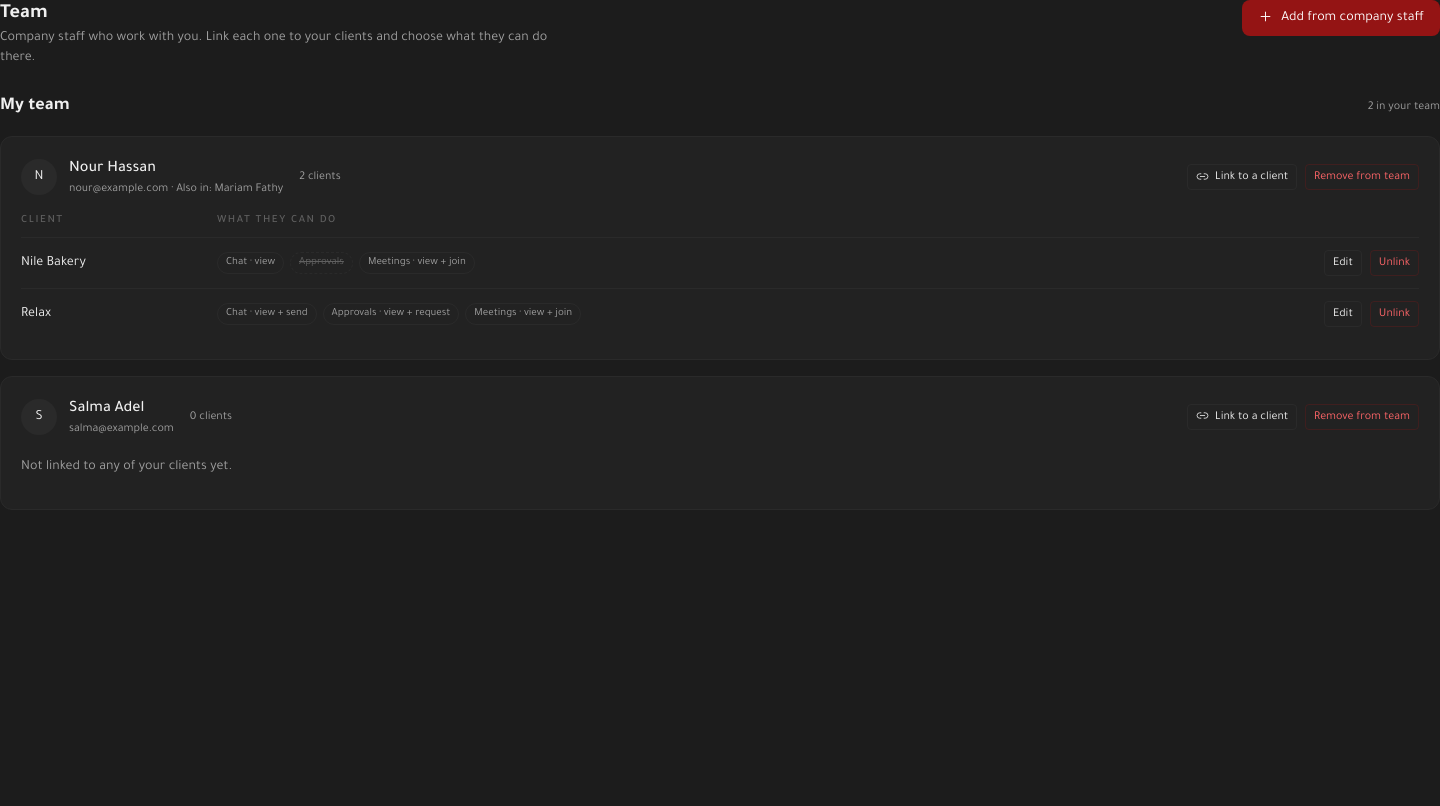
Test: Team page (classic look) › keeps company staff hidden until asked, and the same button hides it again
expect the element "Nour Hassan" is shown: met, box left=0, top=136, right=1439, bottom=360
expect the text "Youssef Ali" is not shown: met
What coordinates should you click on to do the following:
click the button "Add from company staff"
I would click on:
 (1341, 18)
Its box is left=1242, top=0, right=1439, bottom=36.
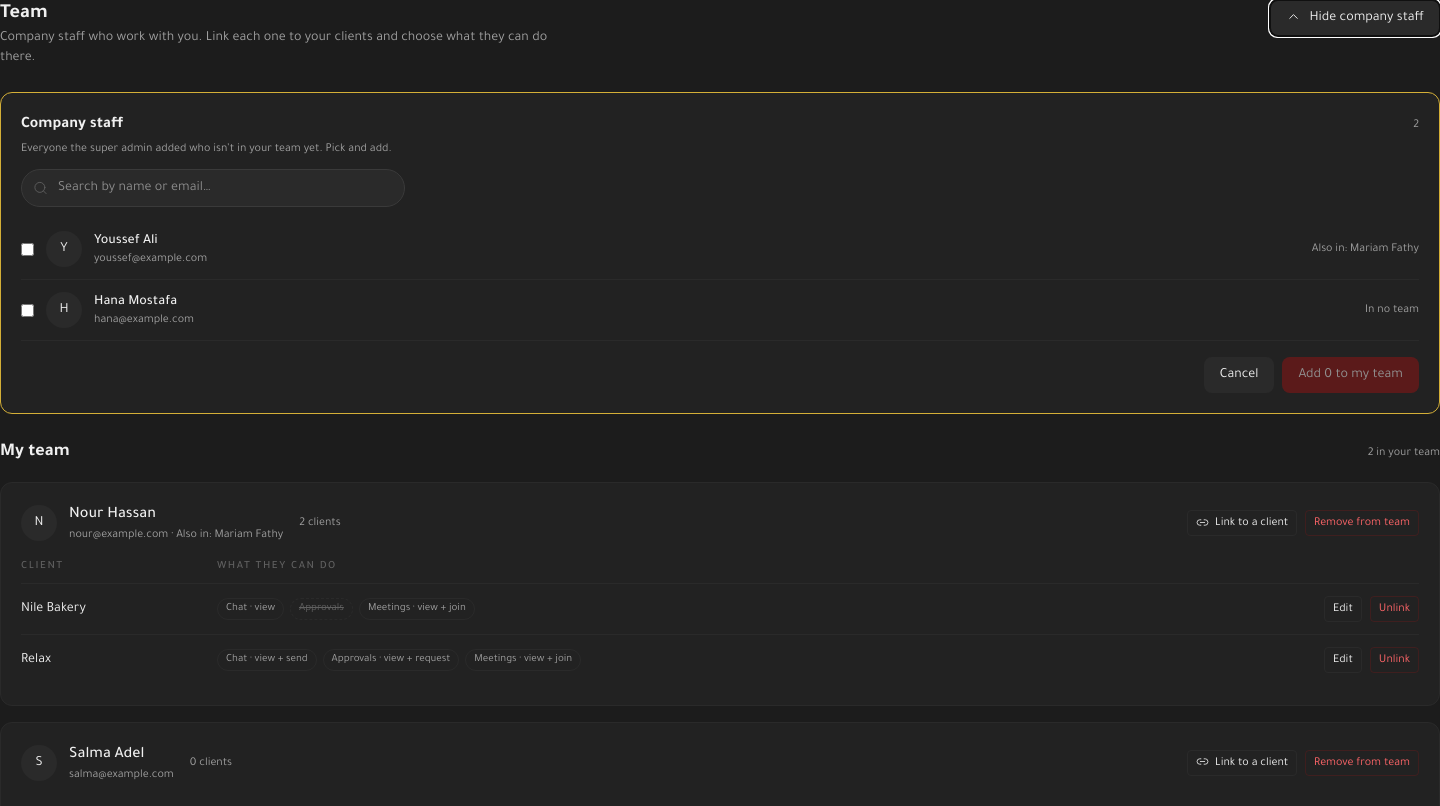
expect the text "Youssef Ali" is shown: met, box left=94, top=234, right=158, bottom=248
expect the text "Also in: Mariam Fathy" is shown: met, box left=1312, top=241, right=1419, bottom=257
expect the text "In no team" is shown: met, box left=1365, top=302, right=1419, bottom=318
What coordinates should you click on to do the following:
click the button "Hide company staff"
I would click on:
 (1355, 18)
Its box is left=1270, top=0, right=1439, bottom=36.
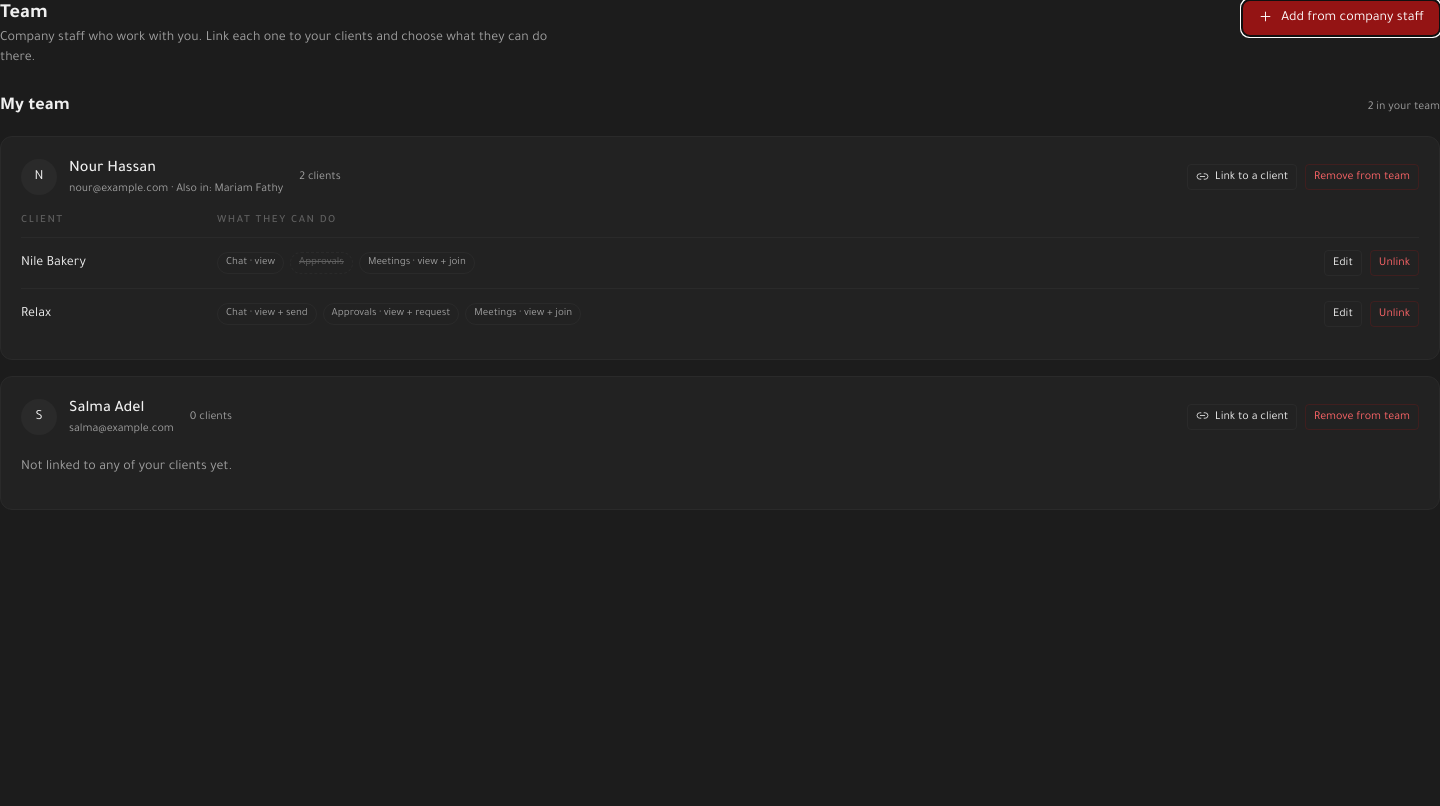
expect the text "Youssef Ali" is gone: met
expect the button "Add from company staff" is shown: met, box left=1242, top=0, right=1439, bottom=36
